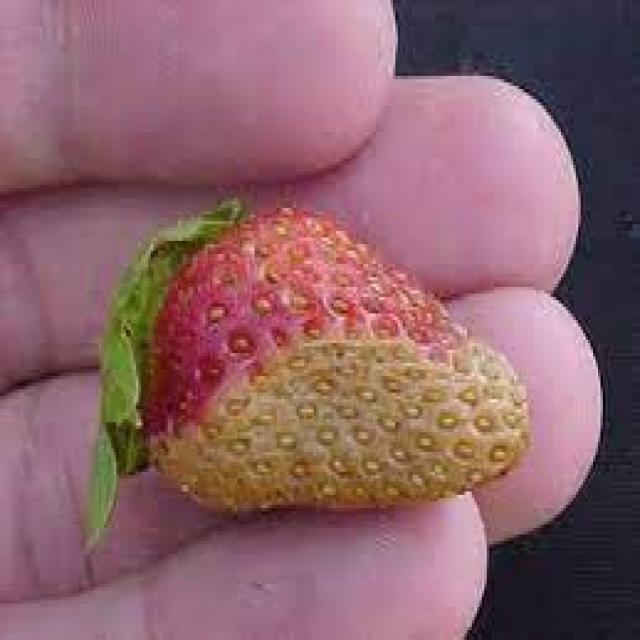Podredumbre de cuero: (111, 196, 546, 504)
